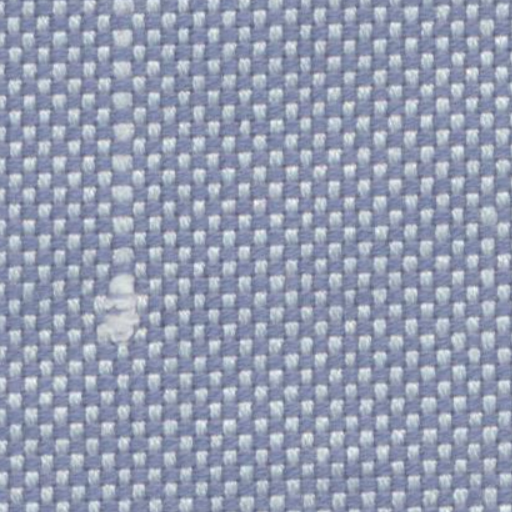DaiSha: (93, 7, 153, 368)
